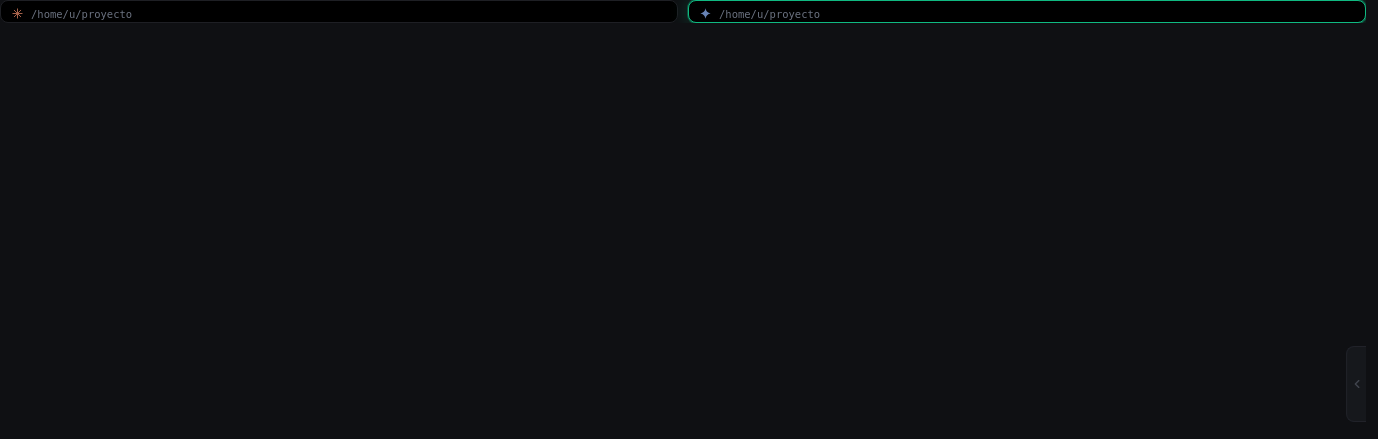
SwarmTerminalMatrix: paneles = solo terminal › la terminal enfocada tiene resplandor; las demas no
The image size is (1378, 439).
Earlier steps of the test are not shown.
Click the element with test id "terminal-pane-pane_1" at x=339, y=12, box 0,0 -> 678,23
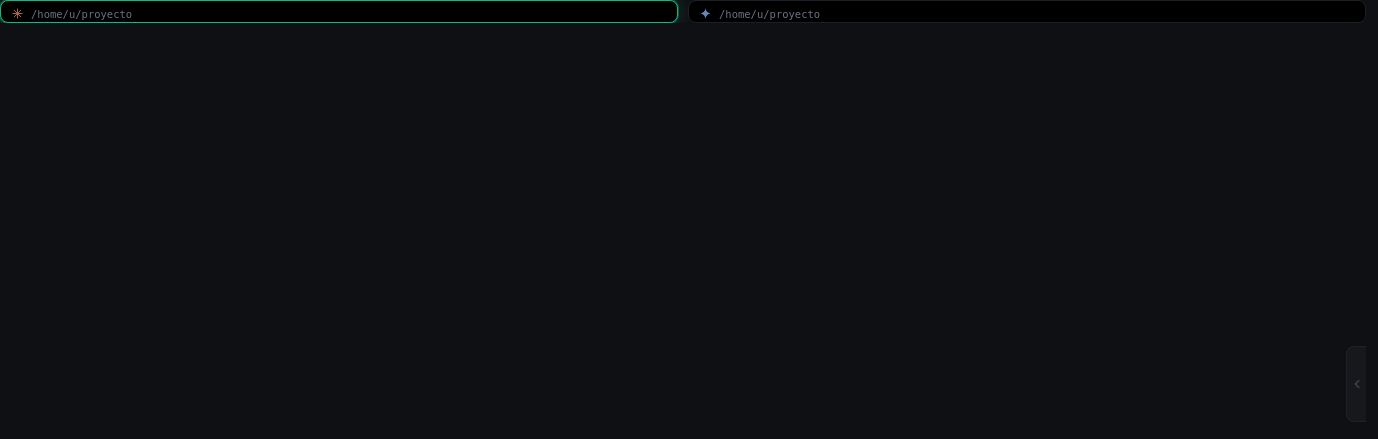
Expected: the element with test id "terminal-pane-pane_1" has attribute data-focused="true", 0,0 -> 678,23
